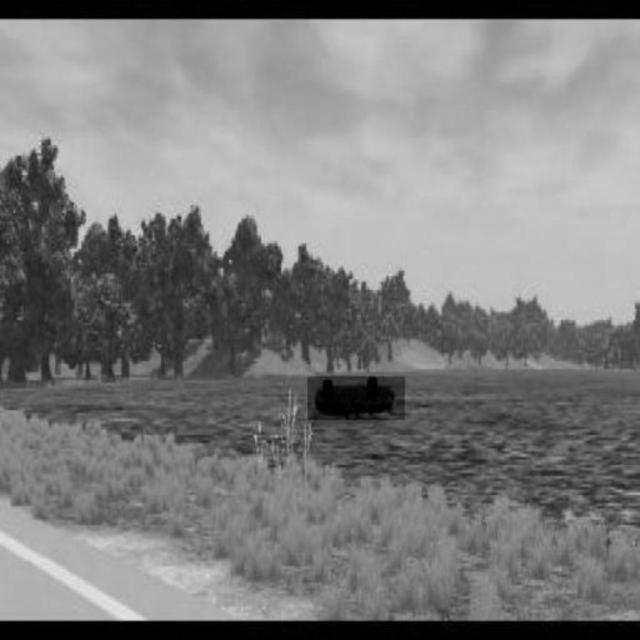vehicle: (308, 376, 406, 420)
